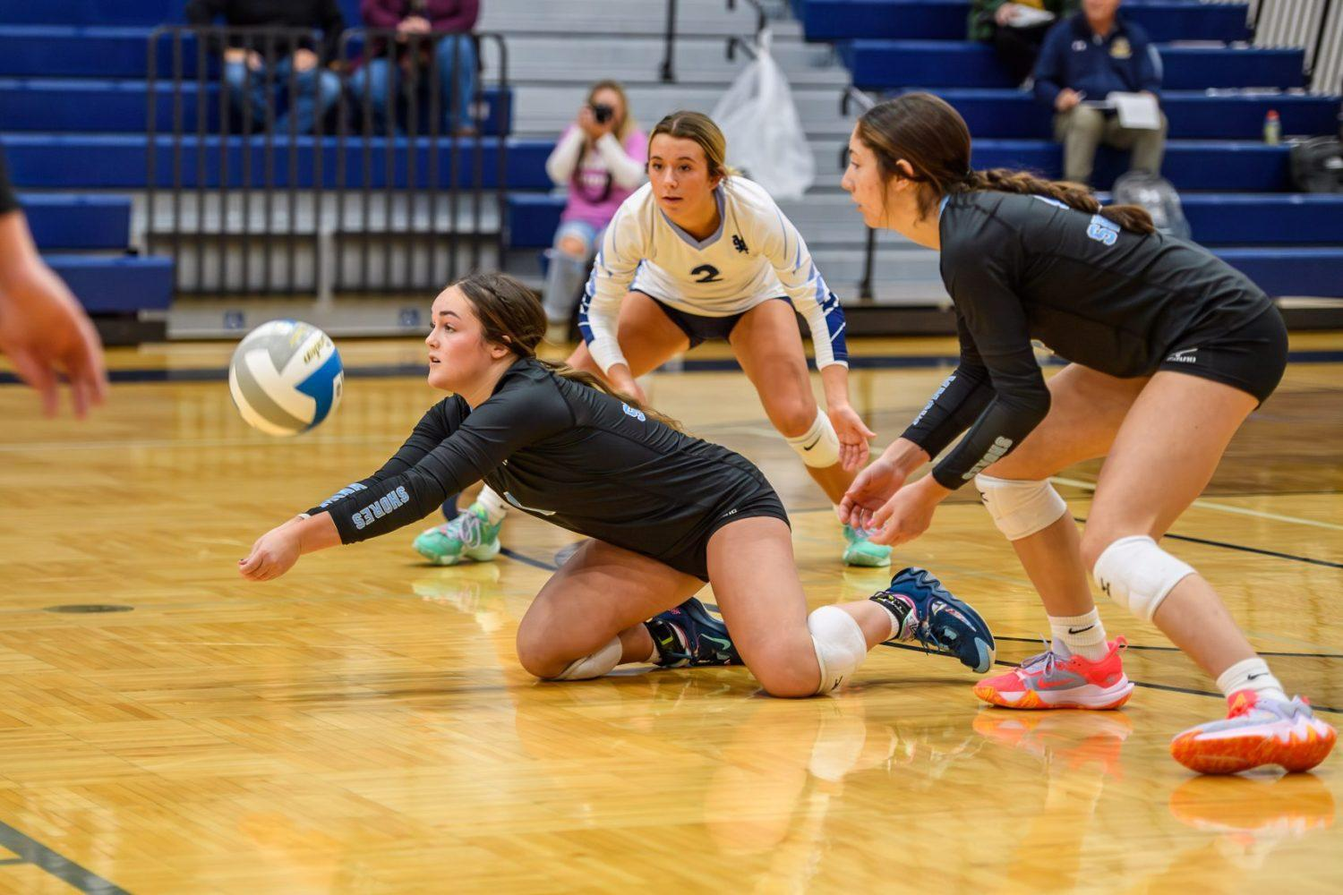ballon_volley: (225, 317, 345, 440)
